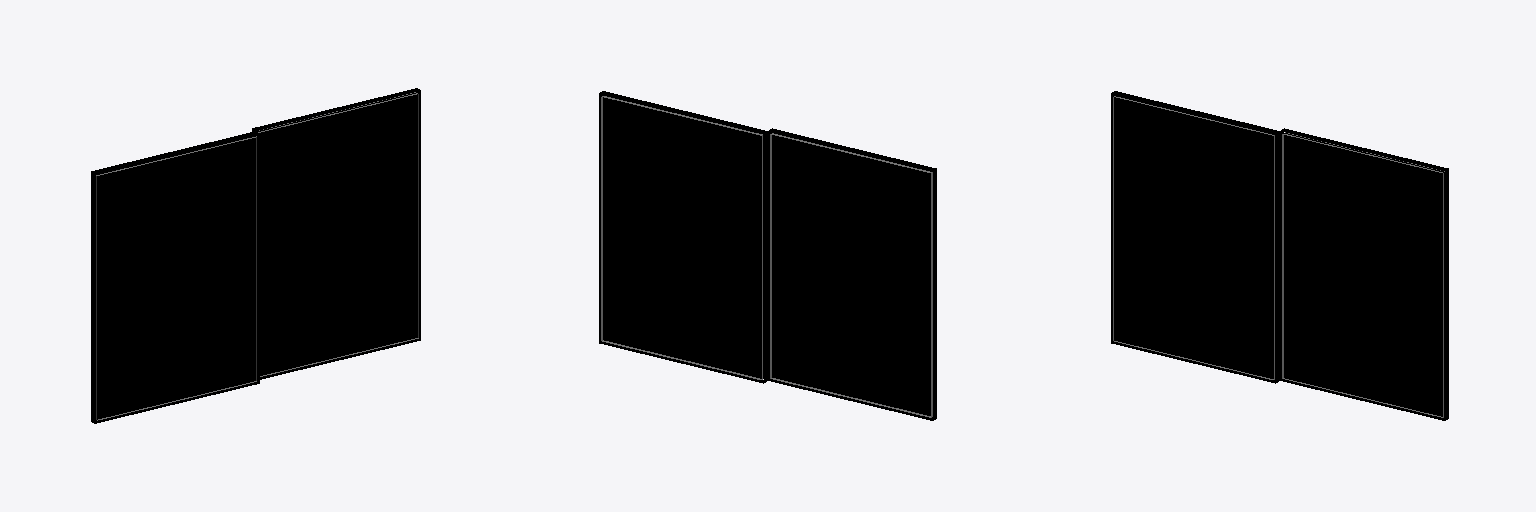
File: Window1.obj
3 renders of one model, left to right at view 1: azimuth 30°, elevation 25°; view 2: azimuth 150°, elevation 25°; view 3: azimuth 330°, elevation 25°, orthographic.
Parts seen in each view (by area): view 1: polySurface6; view 2: polySurface6; view 3: polySurface6.
Part boxes in pixels (x1,y1,x2,y2): polySurface6: (91, 88, 420, 423); polySurface6: (599, 91, 936, 420); polySurface6: (1111, 91, 1448, 420).
Bounding box in the file's own units: 3.26 × 2.35 × 0.1317.